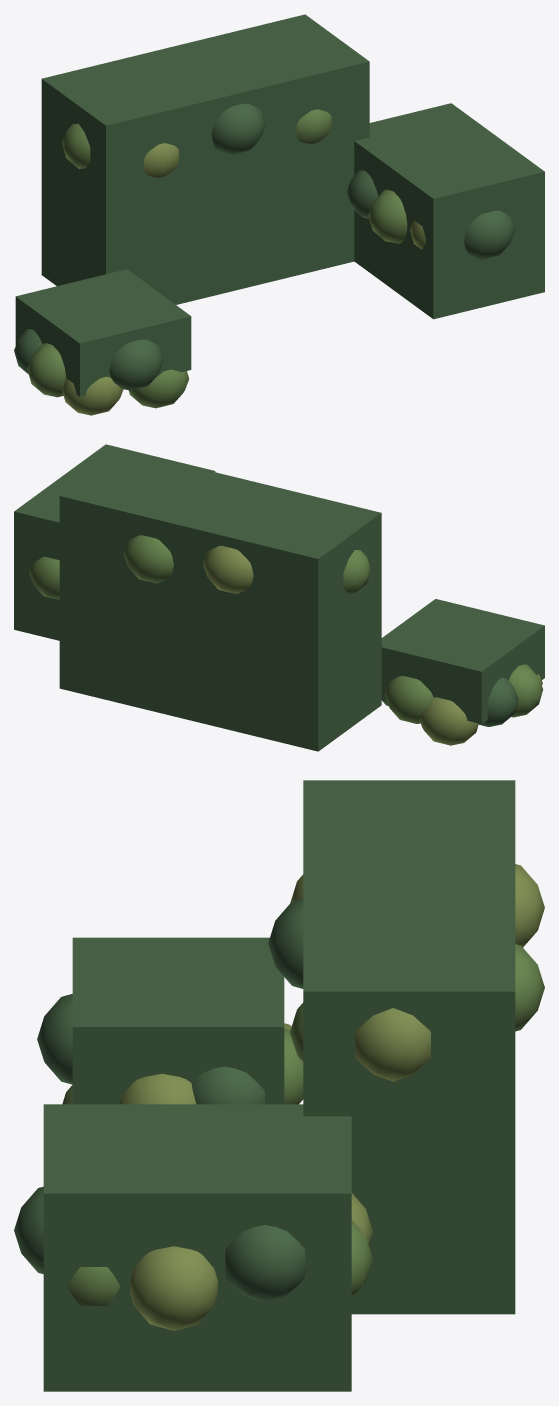
3 renders of one model, top to bottom at view 1: azimuth 30°, elevation 25°; view 2: azimuth 150°, elevation 25°; view 3: azimuth 270°, elevation 25°, orthographic. The views are drawn at different scales.
Parts seen in each view (by area): view 1: climb-hedge-3-0, climb-hedge-3-1, 생울타리 04, climb-hedge-3-2; view 2: climb-hedge-3-0, climb-hedge-3-2, 생울타리 04, climb-hedge-3-1; view 3: climb-hedge-3-0, climb-hedge-3-1, 생울타리 04, climb-hedge-3-2.
Part boxes in pixels (left/top/right/bottom): climb-hedge-3-0: left=41, top=14, right=369, bottom=304; climb-hedge-3-1: left=354, top=103, right=544, bottom=319; 생울타리 04: left=14, top=103, right=515, bottom=415; climb-hedge-3-2: left=15, top=269, right=191, bottom=396; climb-hedge-3-0: left=59, top=450, right=381, bottom=751; climb-hedge-3-2: left=381, top=599, right=544, bottom=724; 생울타리 04: left=29, top=535, right=543, bottom=745; climb-hedge-3-1: left=14, top=444, right=215, bottom=640; climb-hedge-3-0: left=303, top=780, right=515, bottom=1314; climb-hedge-3-1: left=43, top=1104, right=351, bottom=1391; 생울타리 04: left=14, top=864, right=544, bottom=1330; climb-hedge-3-2: left=72, top=937, right=284, bottom=1104.
Bounding box in the file's own units: 4.93 × 2.21 × 2.76.
